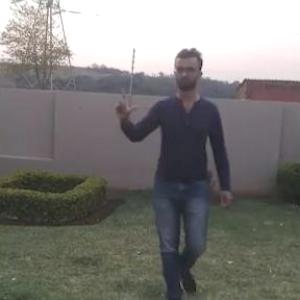land_hand: (111, 82, 143, 124)
